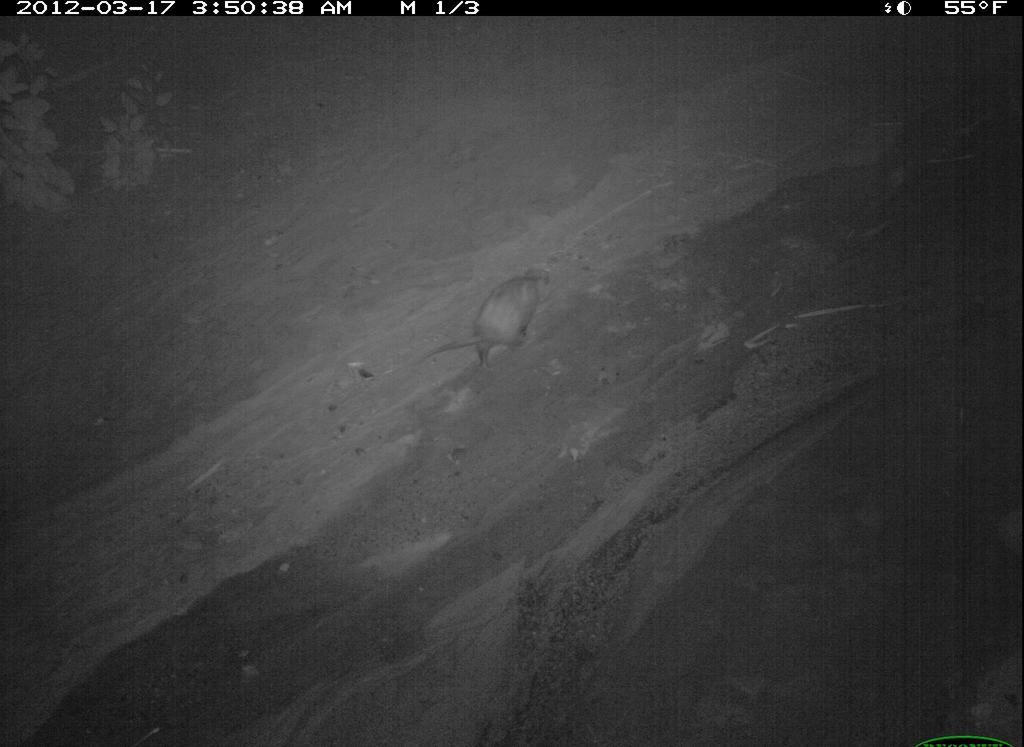opossum: (826, 537, 1024, 747)
